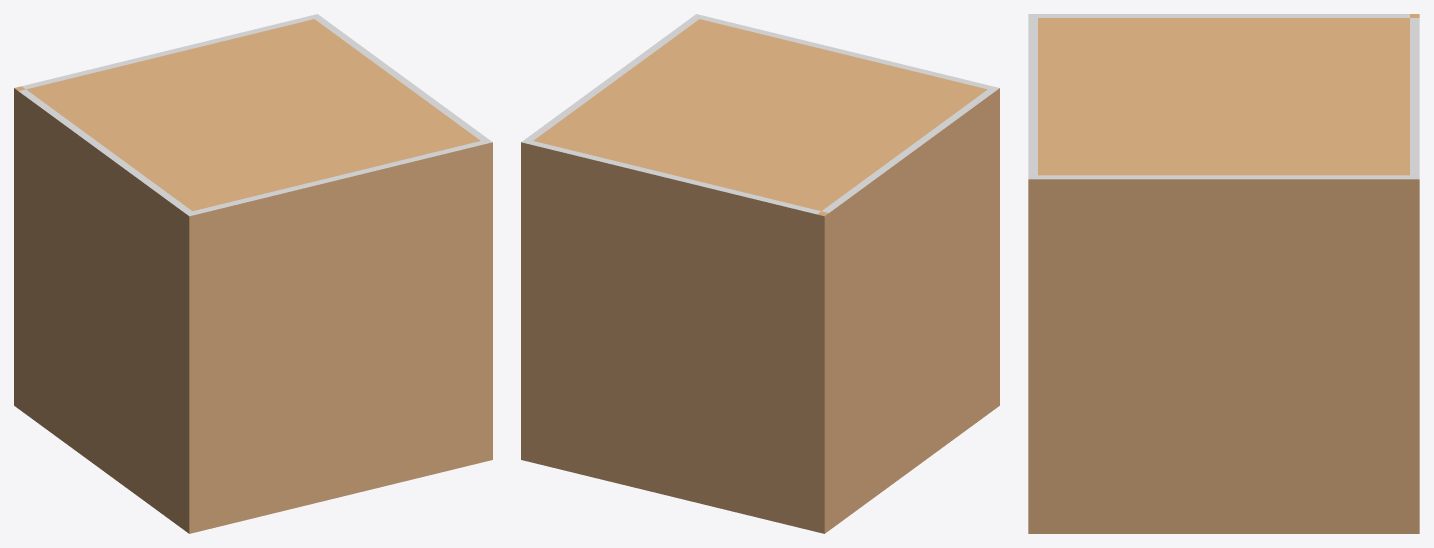
Rendered from Cube - 0.05 Highlight.fbx.
3 renders of one model, left to right at view 1: azimuth 30°, elevation 25°; view 2: azimuth 150°, elevation 25°; view 3: azimuth 270°, elevation 25°, orthographic. The views are drawn at different scales.
Parts seen in each view (by area): view 1: Cube; view 2: Cube; view 3: Cube.
Boxes of the visible parts, x1,y1,x2,y2 form: Cube: (14, 14, 492, 533); Cube: (521, 14, 999, 533); Cube: (1028, 14, 1419, 533).
Size of the model in its own units: 100 by 100 by 100.
